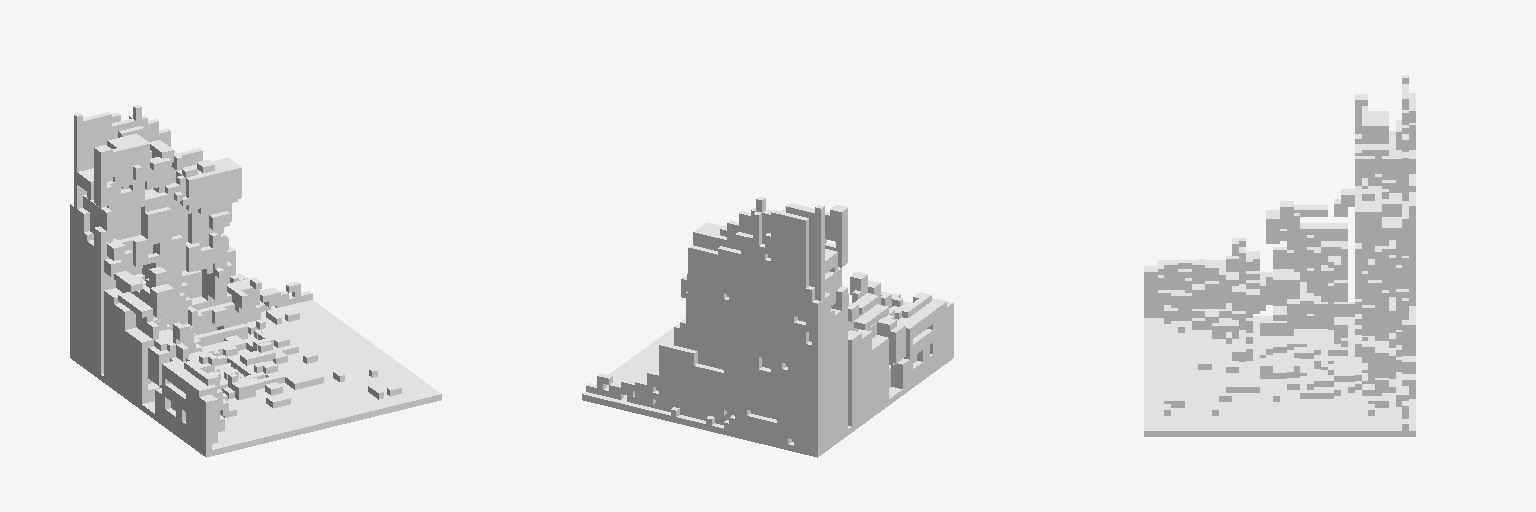
The model's file is floor6.obj.
The picture shows the model from 3 angles: view 1: azimuth 30°, elevation 25°; view 2: azimuth 150°, elevation 25°; view 3: azimuth 270°, elevation 25°; orthographic projection.
Visible parts, largest first — view 1: floor6; view 2: floor6; view 3: floor6.
Part boxes in pixels (x1,y1,x2,y2): floor6: (70, 105, 441, 457); floor6: (582, 197, 953, 457); floor6: (1144, 75, 1415, 436).
Size of the model in its own units: 40 by 40 by 40.